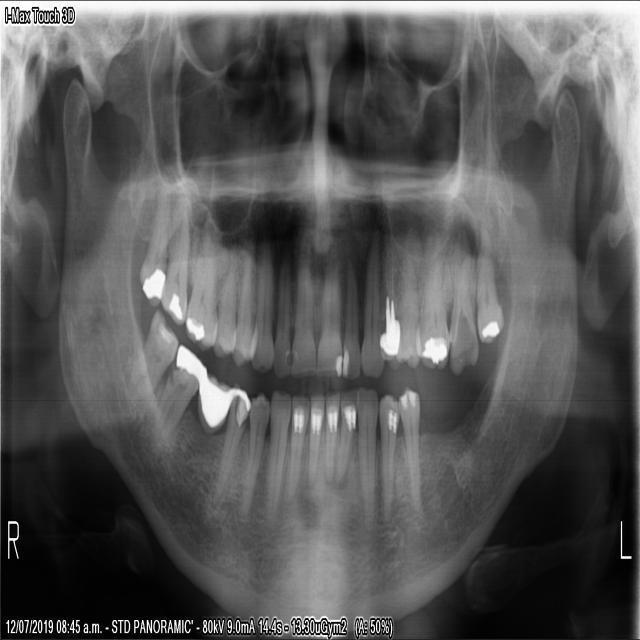LCD: (355, 383, 378, 534)
LCU: (360, 225, 385, 379)
LID: (332, 386, 356, 486), (322, 391, 339, 486)
LIU: (316, 236, 342, 379), (340, 251, 360, 382)
LMU: (447, 219, 480, 378), (476, 202, 506, 350), (420, 225, 449, 373)
LPMD: (397, 383, 424, 525), (378, 390, 399, 524)
LPMU: (381, 230, 401, 373), (400, 236, 420, 373)
RCD: (264, 386, 290, 527)
RCU: (248, 235, 273, 376)
RID: (279, 391, 306, 503), (304, 391, 323, 494)
RIU: (288, 230, 315, 379), (269, 239, 291, 380)
RMD: (150, 342, 207, 444), (123, 306, 179, 402)
RMU: (182, 216, 219, 352), (134, 171, 170, 310), (159, 194, 190, 327)
RPMD: (204, 383, 249, 502), (239, 388, 269, 519)
RPMU: (208, 247, 237, 359), (229, 248, 253, 368)
